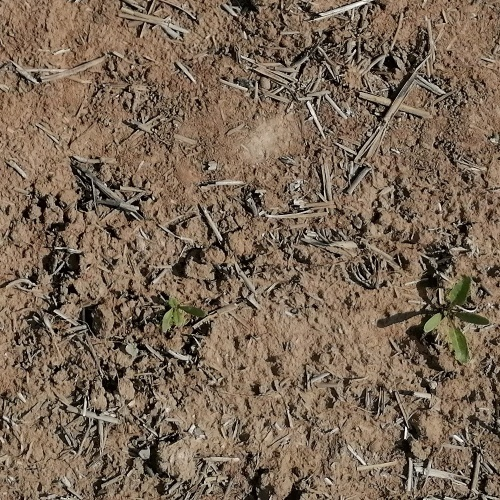beet: (426, 276, 489, 366), (161, 294, 204, 332)
